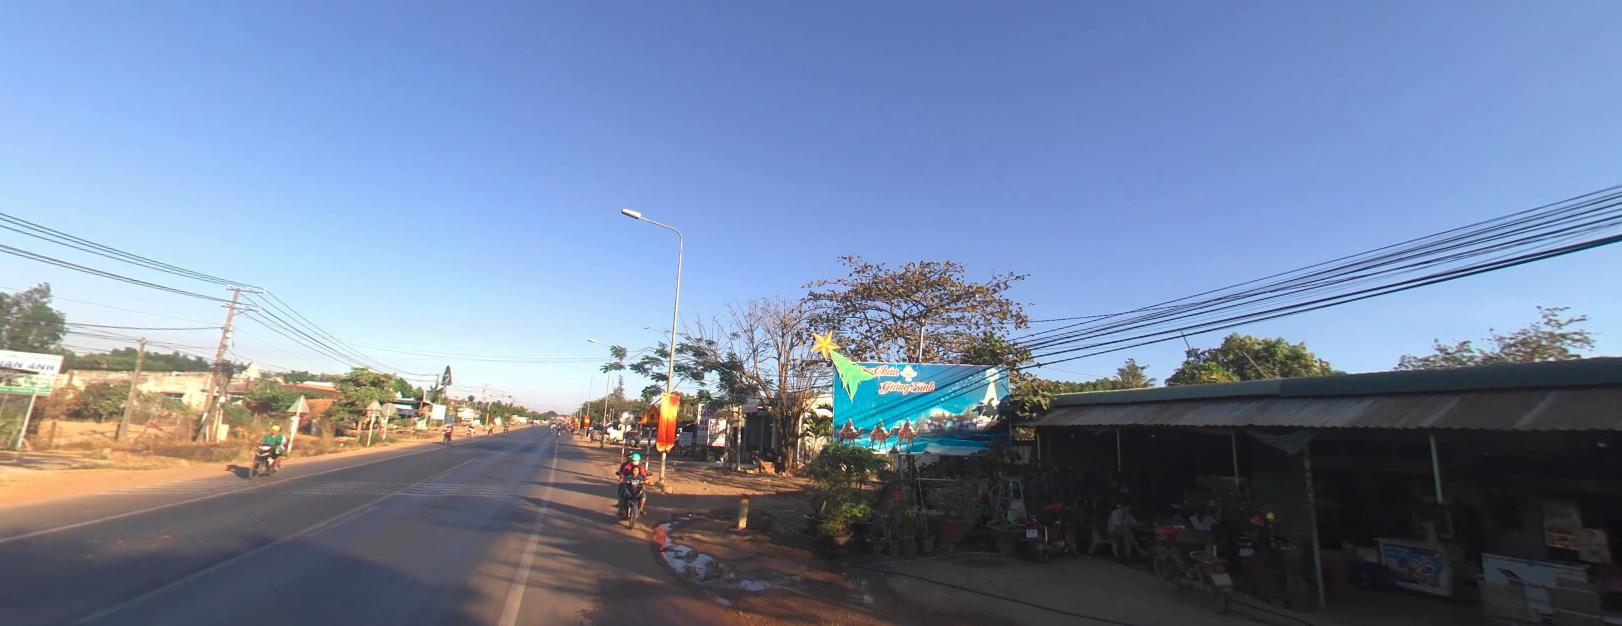Nguy hiem: (639, 403, 664, 422)
